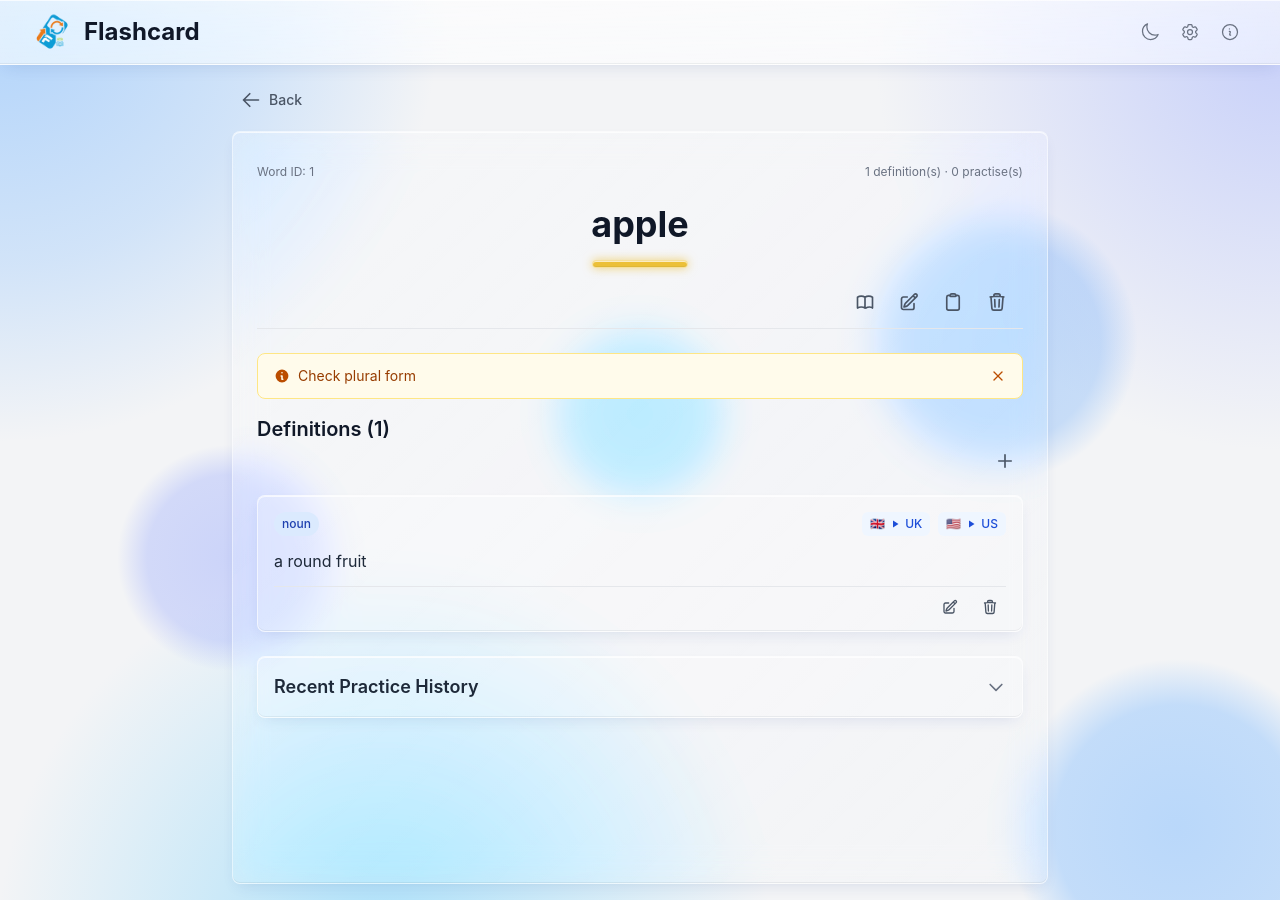
WordDetailPage › cancels the clear-reminder confirmation without clearing
The width and height of the screenshot is (1280, 900).
Expected: the text "Check plural form" is shown, [298, 367, 416, 384]
What coordinates should you click on to do the following:
click the button named "Clear reminder"
I would click on:
 (998, 376)
Its box is [990, 368, 1006, 384].
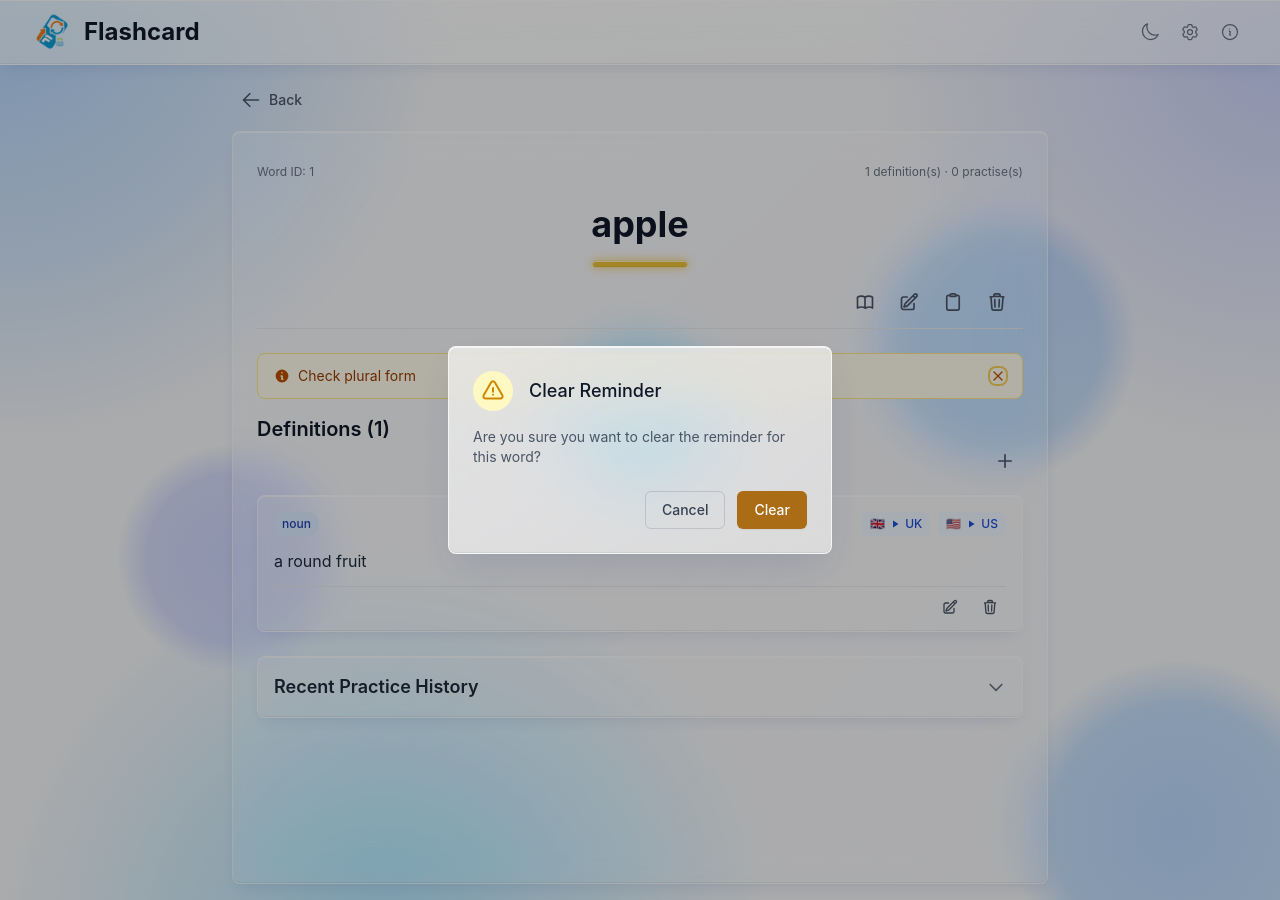
What coordinates should you click on to do the following:
click the button "Cancel"
I would click on:
 (685, 510)
Its box is [645, 491, 726, 529].
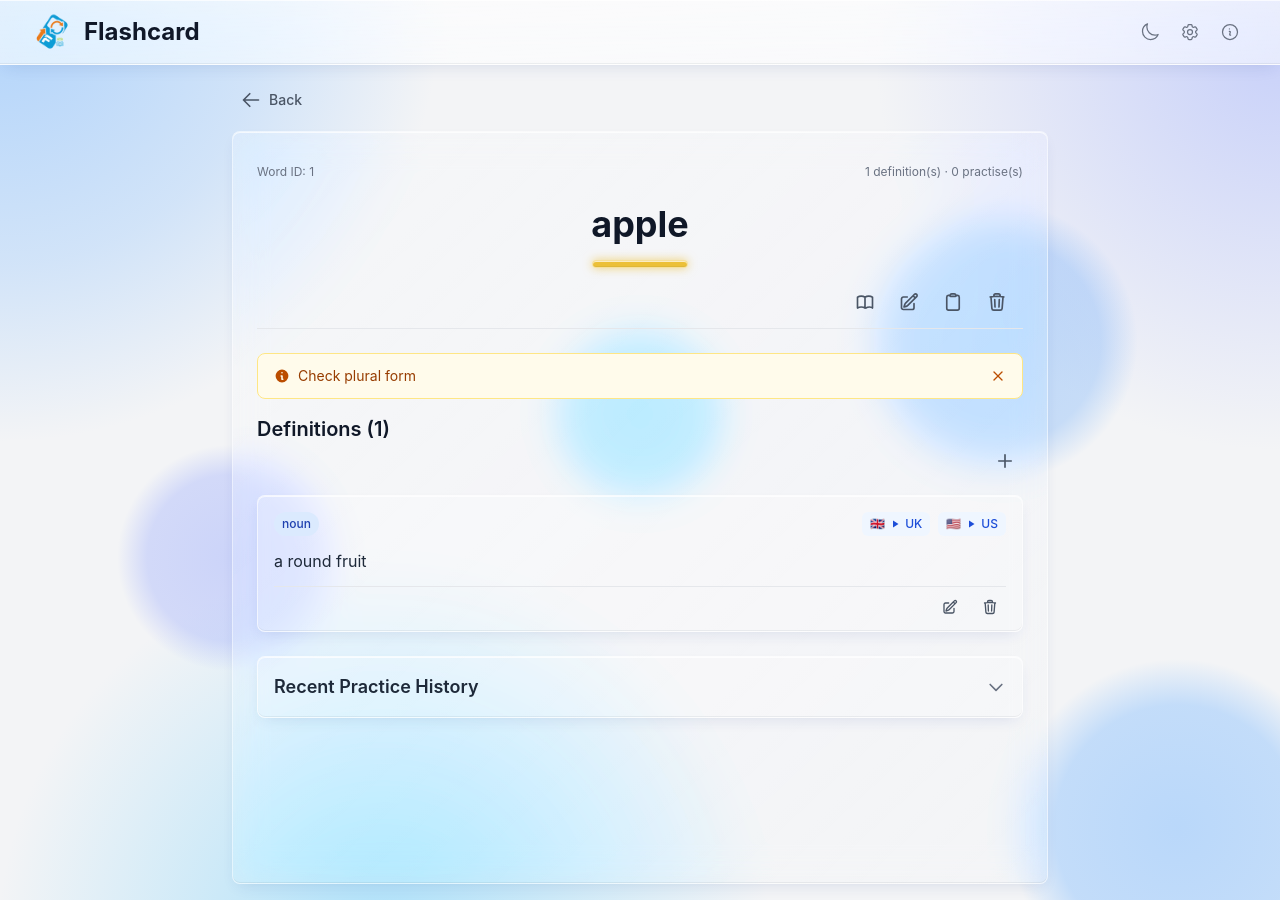
Result: the heading "Clear Reminder" is gone
